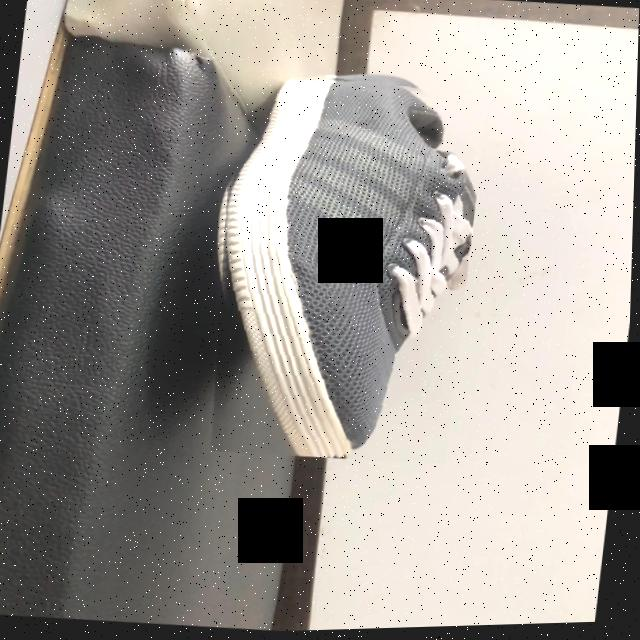shoe: (224, 82, 477, 460)
